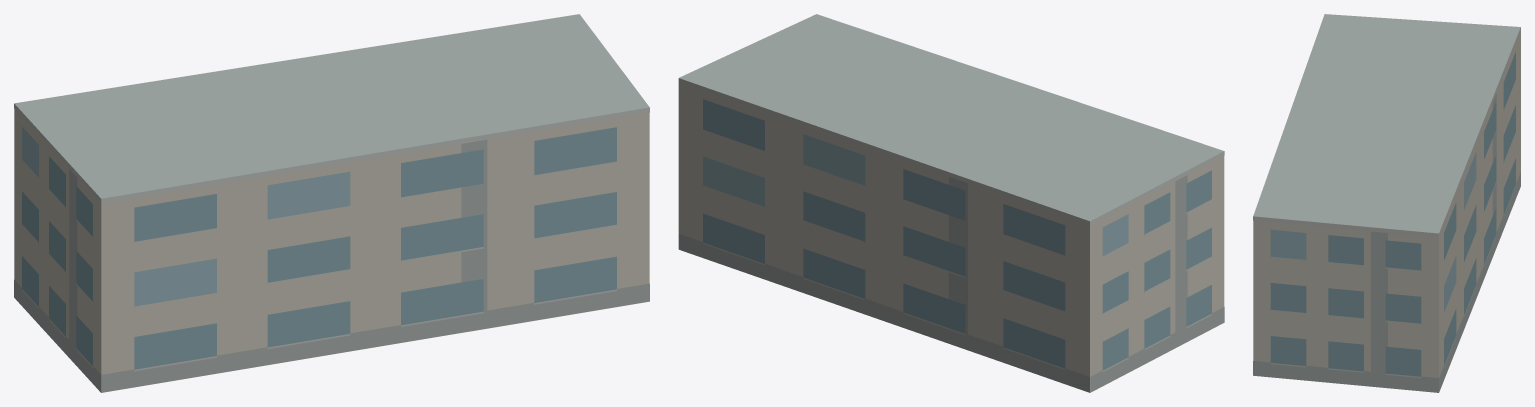
Rendered from survey-upis-32598982.glb.
3 views of the same model, side by side, from view 1: azimuth 30°, elevation 25°; view 2: azimuth 150°, elevation 25°; view 3: azimuth 270°, elevation 25° (orthographic). The views are drawn at different scales.
Parts seen in each view (by area): view 1: survey-upis-32598982.tmp; view 2: survey-upis-32598982.tmp; view 3: survey-upis-32598982.tmp.
Part boxes in pixels (x1,y1,x2,y2): survey-upis-32598982.tmp: (14, 14, 649, 392); survey-upis-32598982.tmp: (678, 14, 1224, 392); survey-upis-32598982.tmp: (1253, 14, 1520, 392).
Size of the model in its own units: 27.04 by 9.15 by 13.94.
